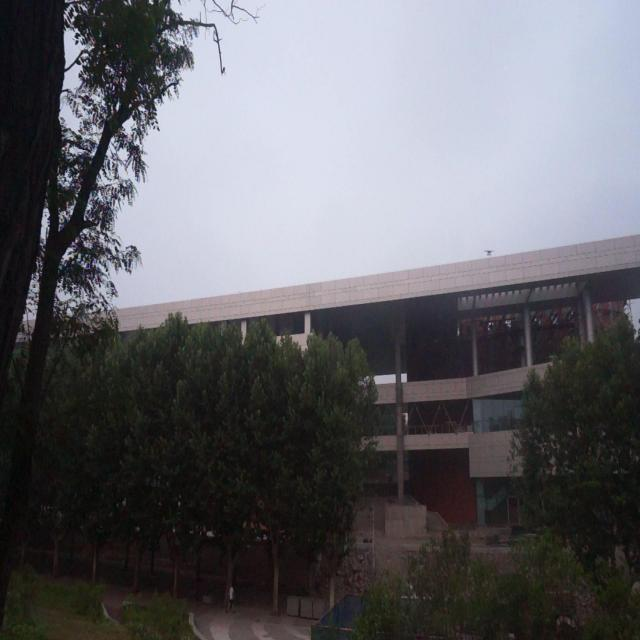UAV: (483, 249, 495, 256)
